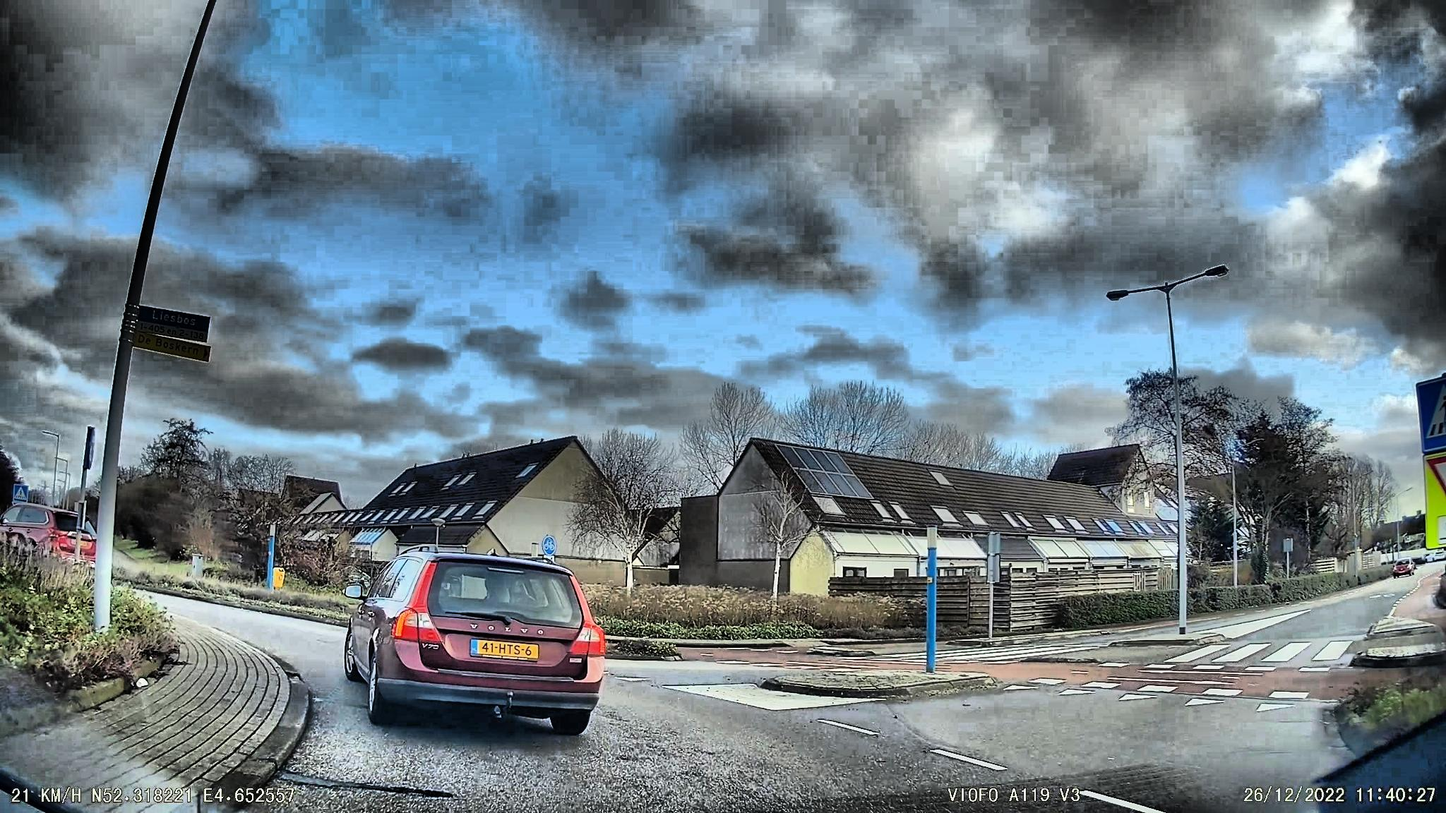Roads: (179, 617, 1382, 813)
